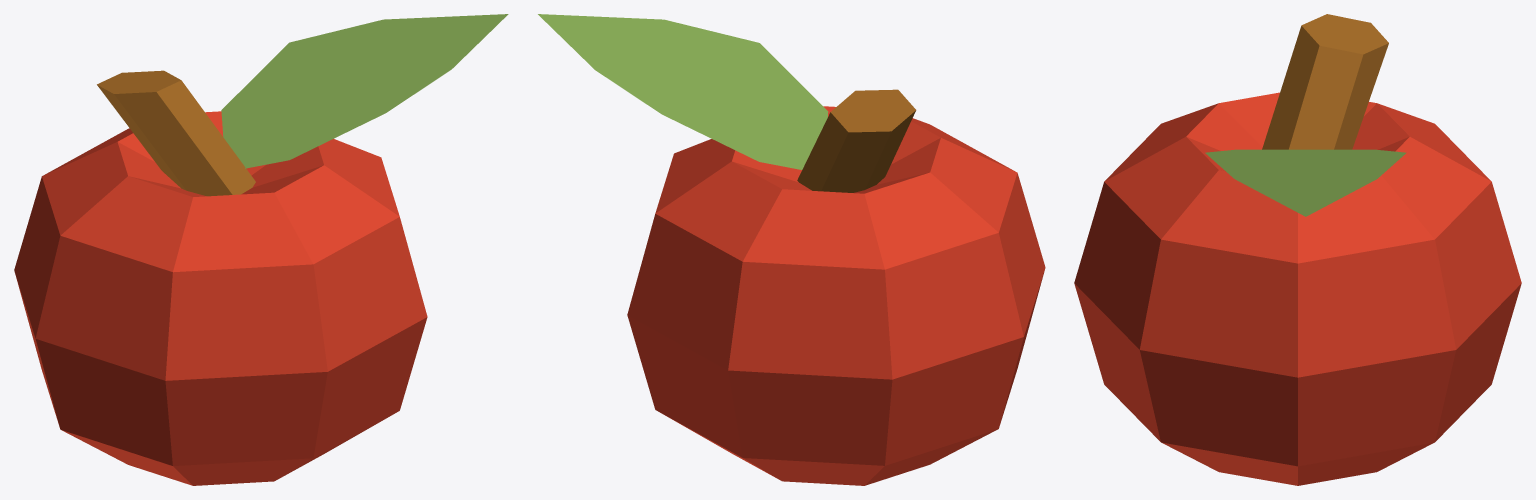
The model's file is apple.fbx.
3 renders of one model, left to right at view 1: azimuth 30°, elevation 25°; view 2: azimuth 150°, elevation 25°; view 3: azimuth 270°, elevation 25°, orthographic. The views are drawn at different scales.
Visible parts, largest first — view 1: Apple, Leaf, Stick; view 2: Apple, Leaf, Stick; view 3: Apple, Stick, Leaf.
Boxes of the visible parts, x1,y1,x2,y2 form: Apple: (14, 111, 427, 485); Leaf: (221, 14, 508, 168); Stick: (97, 70, 255, 196); Apple: (627, 106, 1045, 485); Leaf: (538, 14, 828, 169); Stick: (797, 89, 916, 192); Apple: (1074, 92, 1521, 485); Stick: (1262, 14, 1388, 149); Leaf: (1205, 149, 1406, 216).
Size of the model in its own units: 25.74 by 18.79 by 20.
